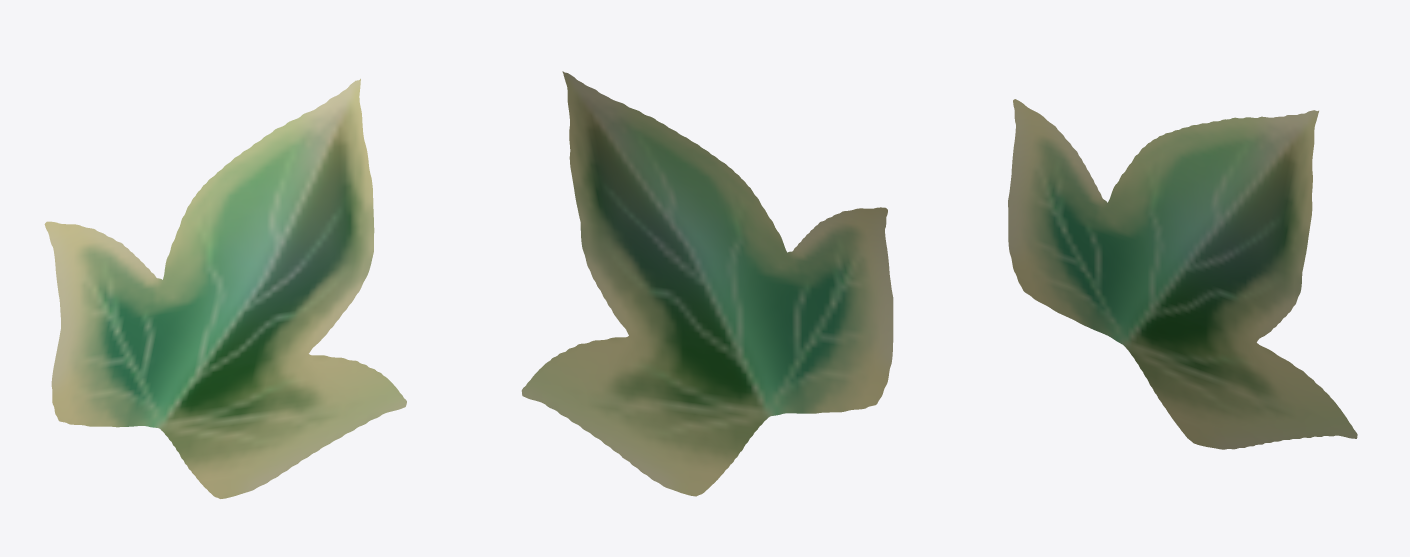
The model's file is lierres_solo_6.fbx.
3 renders of one model, left to right at view 1: azimuth 30°, elevation 25°; view 2: azimuth 150°, elevation 25°; view 3: azimuth 330°, elevation 25°, orthographic. The views are drawn at different scales.
Parts seen in each view (by area): view 1: lierres_solo_6; view 2: lierres_solo_6; view 3: lierres_solo_6.
Part boxes in pixels (x1,y1,x2,y2): lierres_solo_6: [44, 78, 406, 498]; lierres_solo_6: [521, 71, 893, 496]; lierres_solo_6: [1008, 99, 1357, 449].
Bounding box in the file's own units: 16.11 × 17.61 × 1.32.
